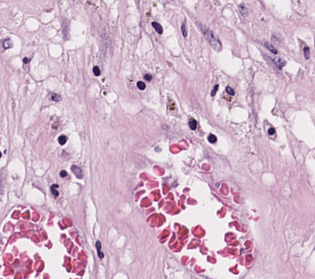nucleus: (198, 23, 221, 50), (71, 165, 82, 178), (264, 43, 276, 53), (273, 58, 285, 68), (96, 241, 103, 258), (50, 184, 58, 196), (48, 93, 61, 100), (225, 86, 234, 95), (188, 119, 196, 129), (303, 46, 309, 59), (58, 135, 66, 144), (211, 85, 218, 95), (137, 81, 145, 89), (208, 134, 216, 142), (93, 66, 100, 75), (144, 74, 151, 80), (268, 127, 274, 134), (60, 170, 66, 177)
